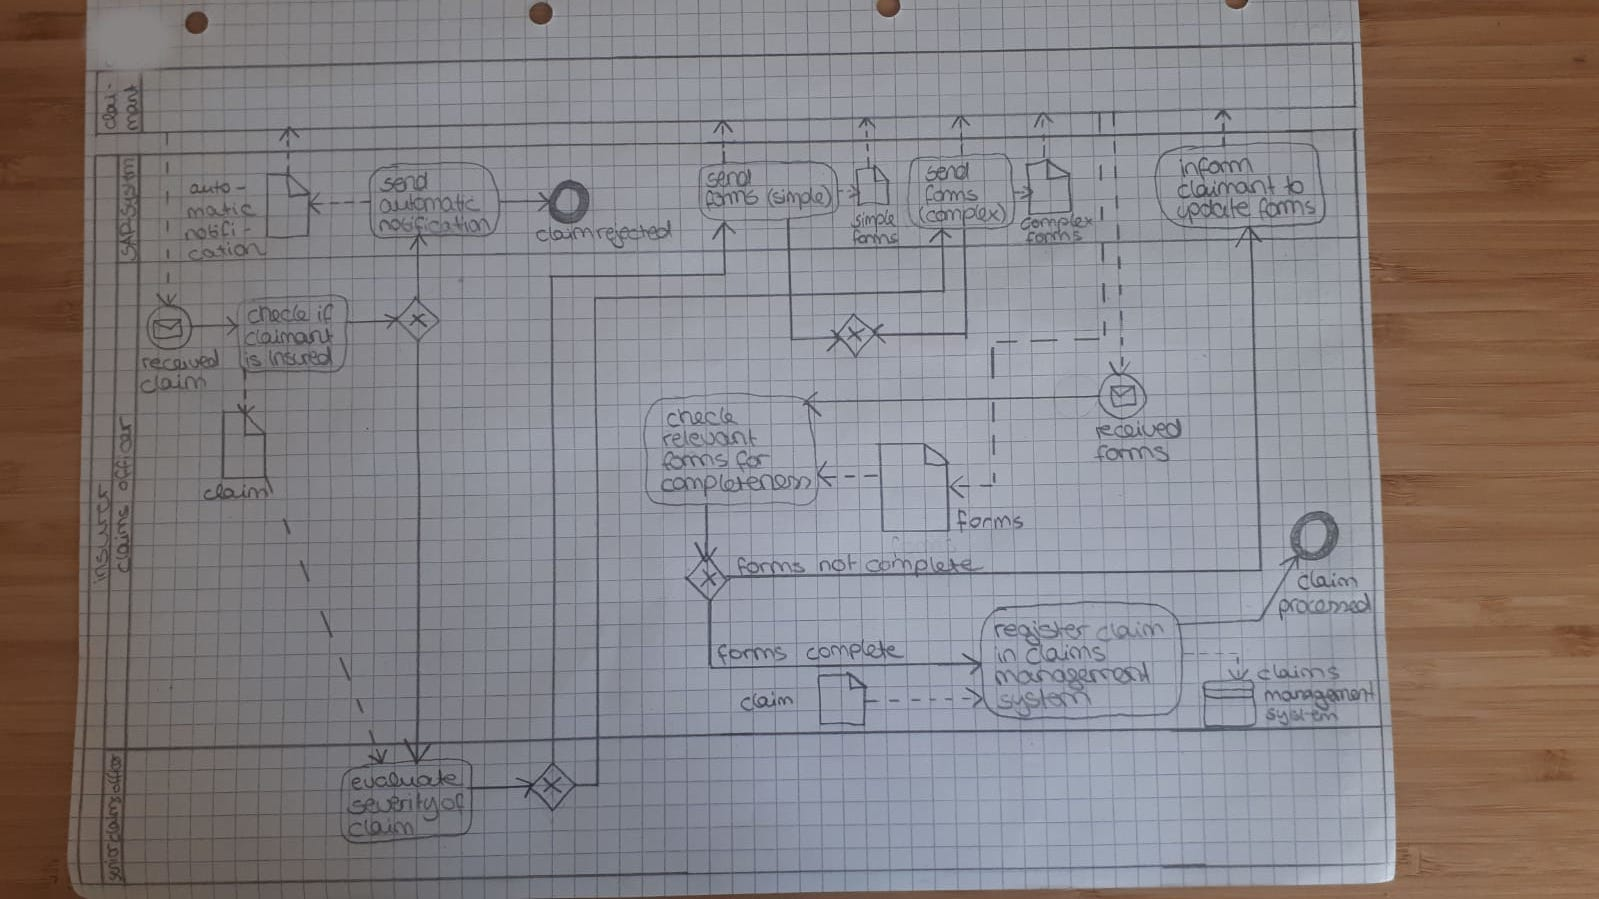(complex): (915, 205, 1006, 225)
(simple): (770, 186, 834, 209)
Complex: (1022, 210, 1097, 231)
Forms: (954, 507, 1024, 532)
SAP-System: (116, 146, 139, 263)
auto-: (191, 180, 245, 196)
automatic: (379, 192, 483, 215)
cation: (185, 240, 261, 262)
check: (666, 406, 739, 429), (246, 303, 307, 330)
clai-: (96, 87, 118, 132)
claim: (201, 481, 273, 504), (1098, 619, 1167, 642), (137, 372, 203, 396), (351, 818, 417, 838), (1297, 571, 1358, 592), (741, 692, 796, 713), (534, 226, 592, 243)
claimant: (1177, 176, 1278, 202), (243, 326, 334, 347)
claims: (1024, 643, 1109, 666), (97, 793, 127, 844), (1257, 662, 1338, 681), (112, 501, 132, 571)
complete: (857, 551, 980, 575), (804, 638, 904, 664)
completeness: (660, 470, 809, 496)
evaluate: (350, 769, 465, 793)
for: (736, 448, 769, 470)
forms: (736, 550, 803, 577), (713, 641, 789, 664), (659, 450, 733, 473), (1094, 443, 1171, 465), (1254, 196, 1317, 221), (921, 182, 979, 205), (701, 188, 754, 211), (1021, 226, 1088, 243), (849, 229, 901, 248)
if: (311, 303, 336, 326)
in: (992, 643, 1021, 668)
inform: (1176, 154, 1256, 181)
insured: (266, 345, 334, 370)
insurer: (90, 482, 113, 587)
is: (241, 347, 264, 371)
management: (1002, 661, 1152, 690), (1267, 685, 1378, 705)
mant: (121, 83, 142, 124)
matic: (186, 200, 255, 221)
not: (818, 551, 852, 574)
notifi-: (181, 220, 251, 243)
notification: (378, 214, 489, 237)
officer: (113, 411, 134, 488), (105, 750, 122, 793)
processed: (1277, 594, 1372, 621)
received: (1091, 419, 1182, 442), (139, 350, 224, 372)
register: (993, 623, 1086, 640)
rejected: (593, 220, 673, 245)
relevant: (659, 428, 758, 451)
send: (378, 172, 429, 195), (707, 165, 753, 190), (925, 162, 971, 183)
senior: (97, 841, 122, 886)
severity of: (350, 791, 468, 817)
simple: (850, 210, 898, 231)
system: (996, 683, 1091, 715), (1266, 706, 1338, 724)
to: (1281, 176, 1307, 198)
update: (1174, 199, 1250, 224)
